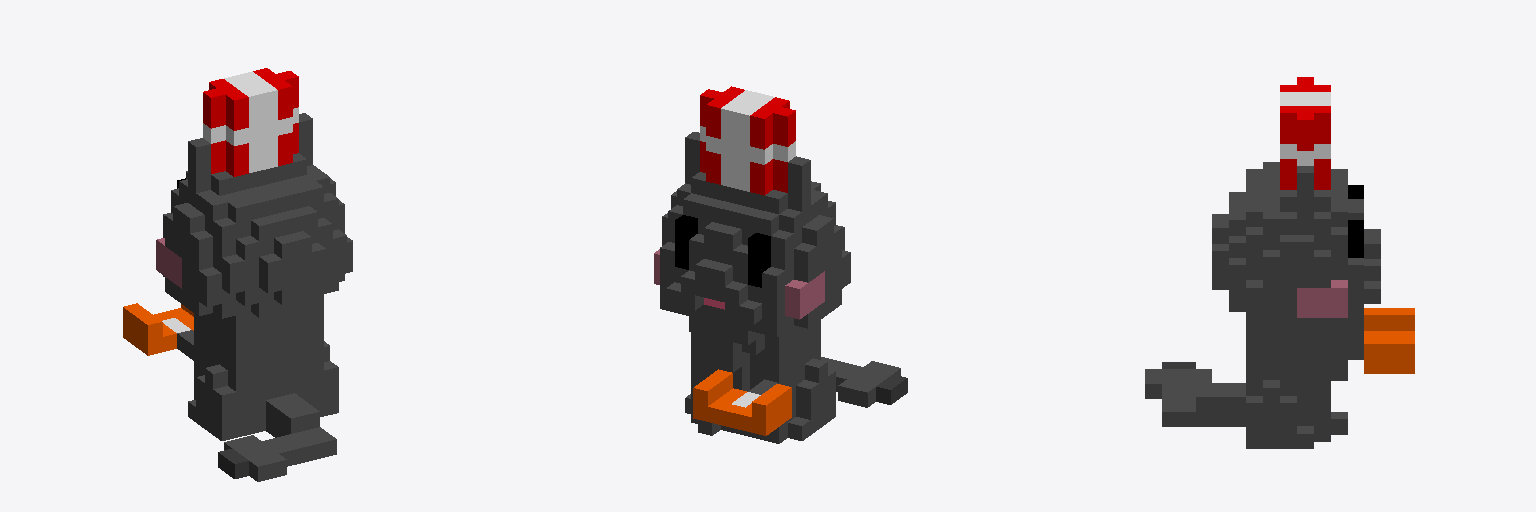
3 views of the same model, side by side, from view 1: azimuth 30°, elevation 25°; view 2: azimuth 150°, elevation 25°; view 3: azimuth 270°, elevation 25° (orthographic).
Parts seen in each view (by area): view 1: object 1; view 2: object 1; view 3: object 1.
Part boxes in pixels (x1,y1,x2,y2): object 1: (123, 68, 352, 481); object 1: (654, 86, 907, 443); object 1: (1145, 77, 1414, 448).
Bounding box in the file's own units: 1.1 × 2.1 × 1.6.
1 materials, 1 textured.